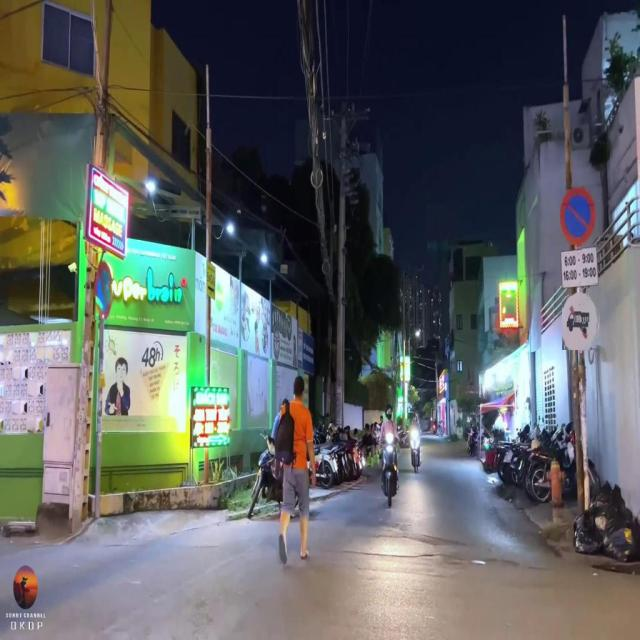cam_do_xe: (559, 184, 598, 250), (94, 260, 114, 320)
khac: (562, 289, 601, 350), (559, 246, 599, 285)
